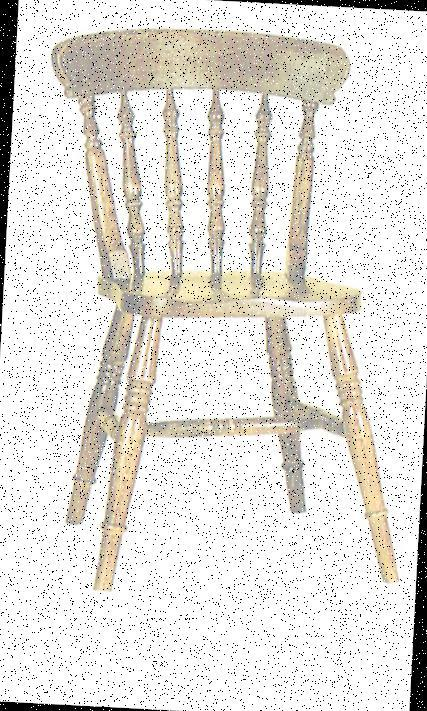Silla: (27, 23, 426, 603)
